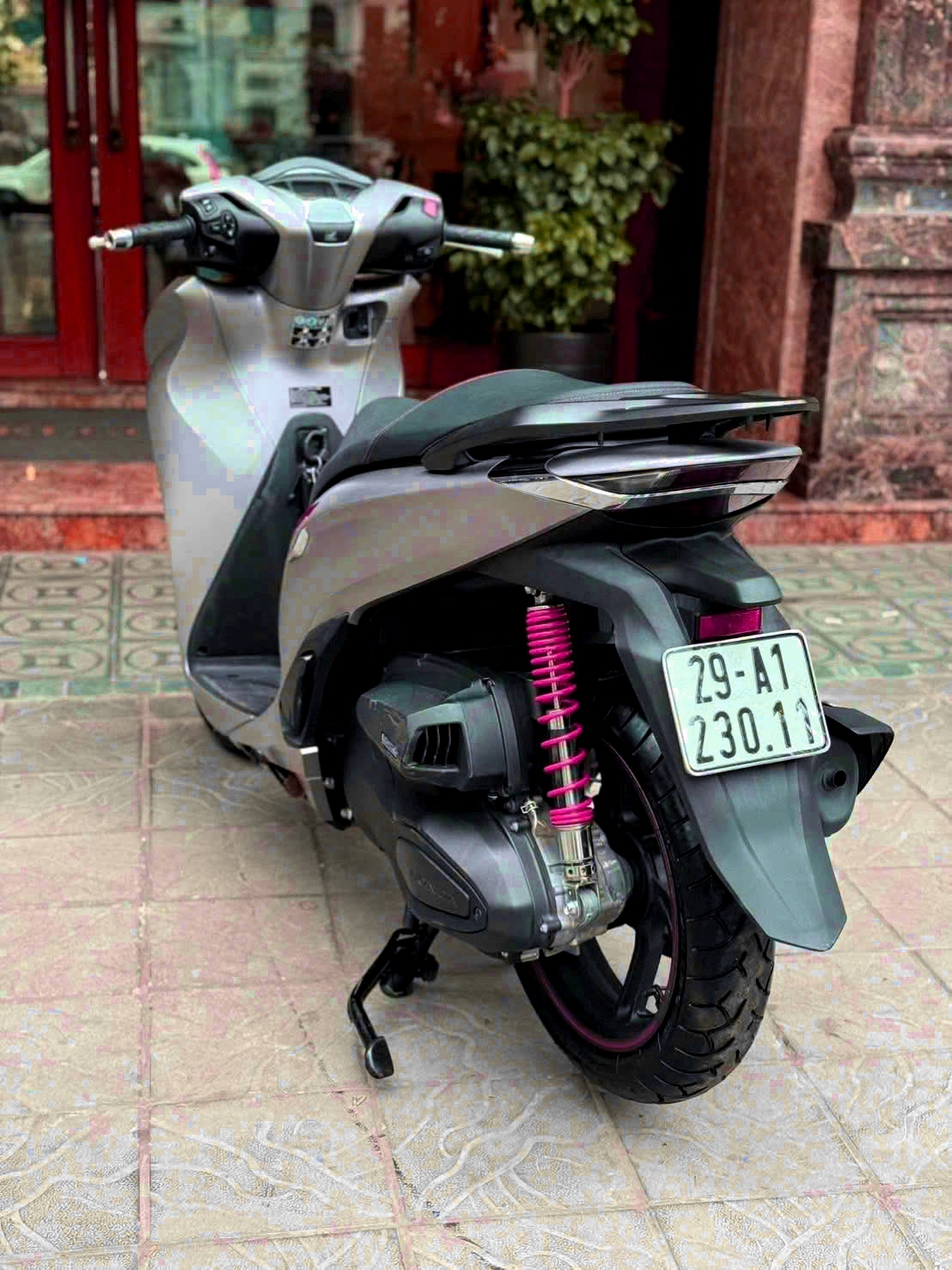Bien-so: (664, 608, 839, 779)
